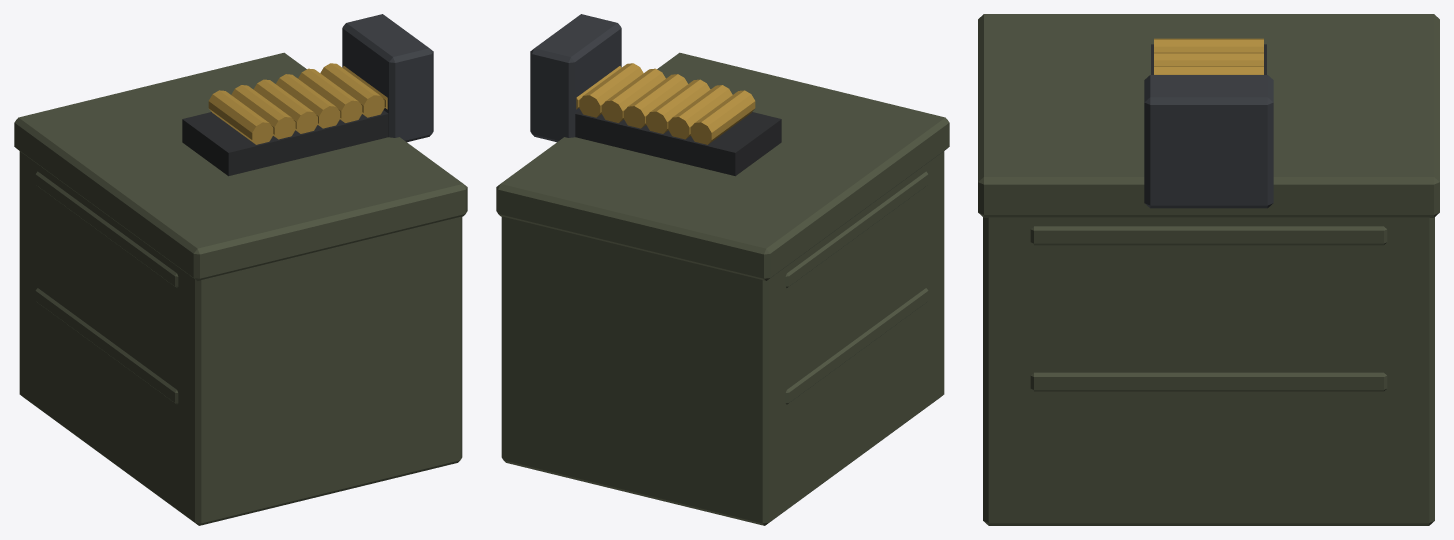
The model's file is mod_cyclone_box_750.glb.
3 views of the same model, side by side, from view 1: azimuth 30°, elevation 25°; view 2: azimuth 150°, elevation 25°; view 3: azimuth 270°, elevation 25° (orthographic). The views are drawn at different scales.
Visible parts, largest first — view 1: AmmoBox, AmmoBoxBelt; view 2: AmmoBox, AmmoBoxBelt; view 3: AmmoBox, AmmoBoxBelt.
Boxes of the visible parts, x1=… form: AmmoBox: x1=14, y1=14, x2=467, y2=525; AmmoBoxBelt: x1=182, y1=63, x2=388, y2=176; AmmoBox: x1=496, y1=14, x2=949, y2=525; AmmoBoxBelt: x1=575, y1=63, x2=781, y2=176; AmmoBox: x1=978, y1=14, x2=1439, y2=525; AmmoBoxBelt: x1=1151, y1=38, x2=1266, y2=74.
Bounding box in the file's own units: 0.1375 × 0.154 × 0.143.
